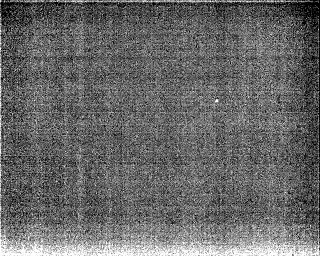BIRD: (213, 96, 221, 106)
